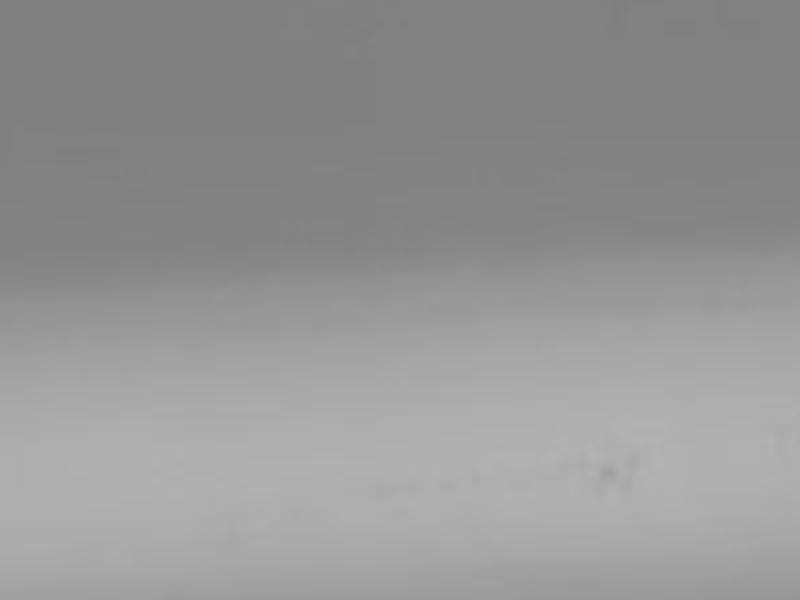defect: (616, 447, 642, 468), (616, 466, 634, 491), (595, 459, 616, 480)
